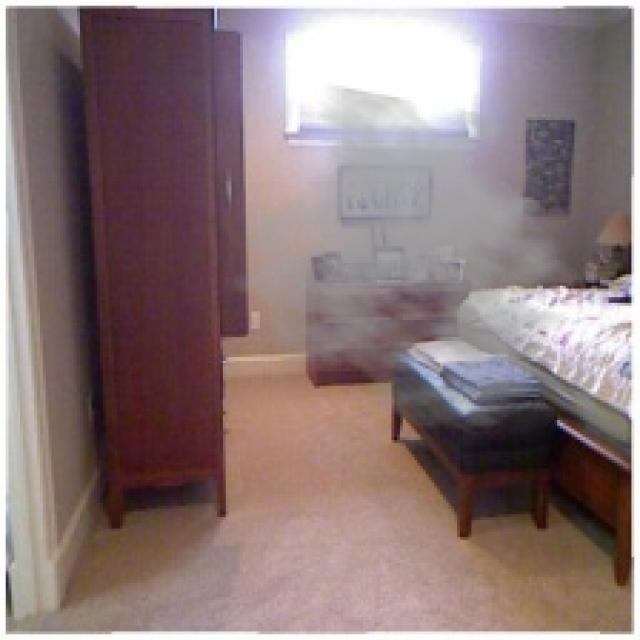smoke: (226, 83, 603, 434)
